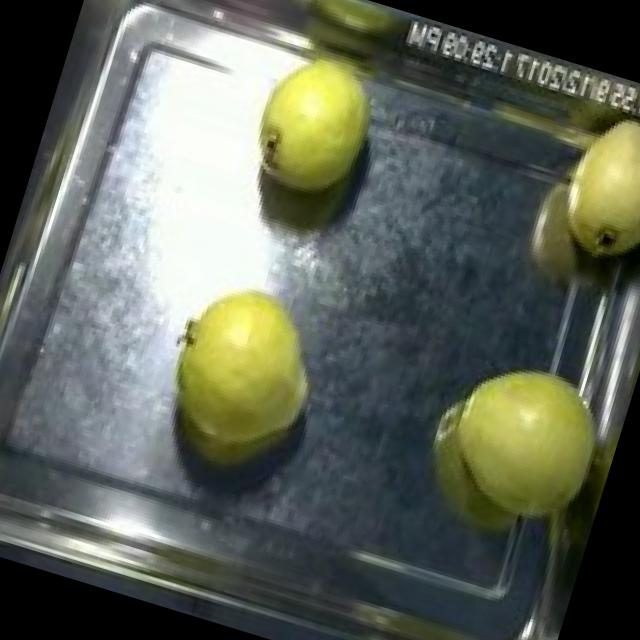Fruit: (136, 258, 345, 498), (414, 333, 632, 548), (223, 37, 401, 227), (520, 79, 640, 291)
